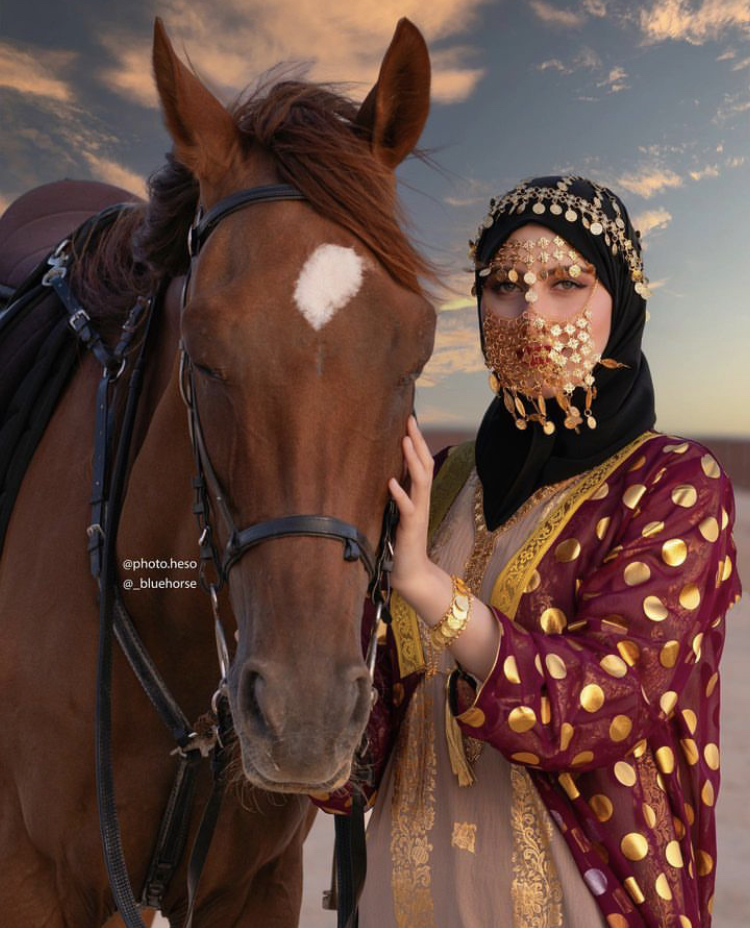Saudi_Founding_Day: (302, 170, 740, 928)
